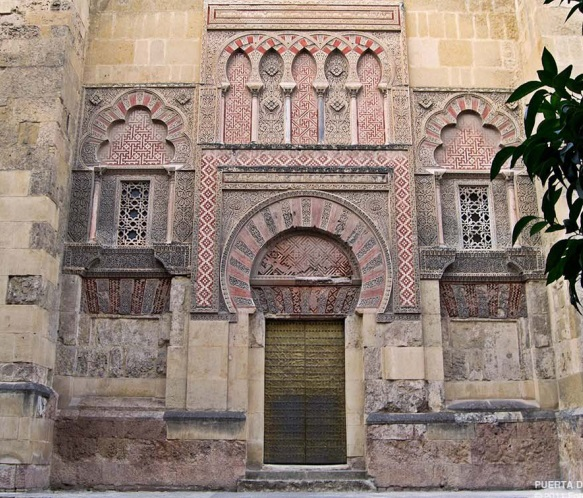arco-herradura: (243, 219, 371, 324), (288, 36, 354, 99), (322, 39, 389, 98), (256, 38, 321, 96), (220, 42, 288, 95)
arco-lobulado: (91, 101, 176, 170), (433, 108, 506, 175)
dintel-adovelado: (84, 275, 171, 317), (256, 282, 360, 316), (441, 280, 525, 319)
